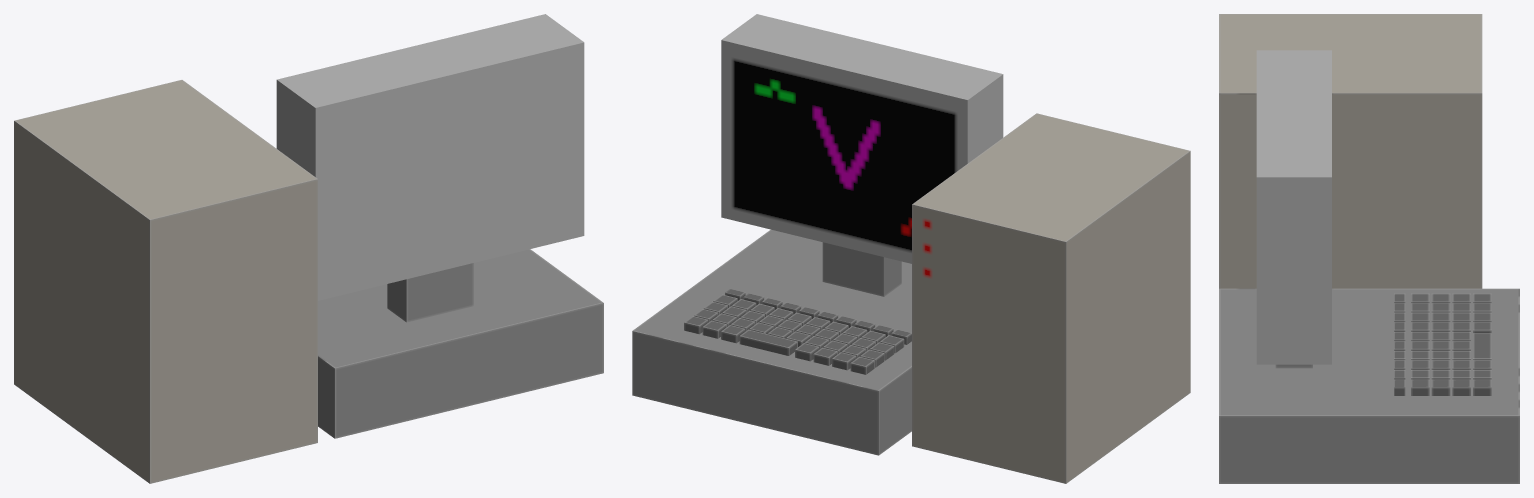
File: short_range_sim_card_data_sender.obj
3 views of the same model, side by side, from view 1: azimuth 30°, elevation 25°; view 2: azimuth 150°, elevation 25°; view 3: azimuth 270°, elevation 25° (orthographic). The views are drawn at different scales.
Visible parts, largest first — view 1: mesh; view 2: mesh; view 3: mesh.
Boxes of the visible parts, x1,y1,x2,y2 form: mesh: (14, 14, 603, 483); mesh: (632, 14, 1190, 483); mesh: (1219, 14, 1519, 483).
Size of the model in its own units: 1.69 by 1.12 by 1.
